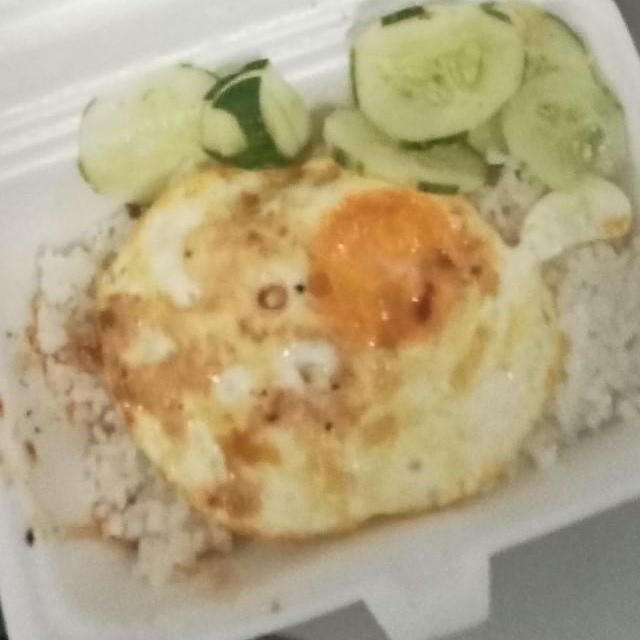com: (14, 210, 251, 588), (464, 141, 640, 472)
trung: (66, 144, 566, 550)
